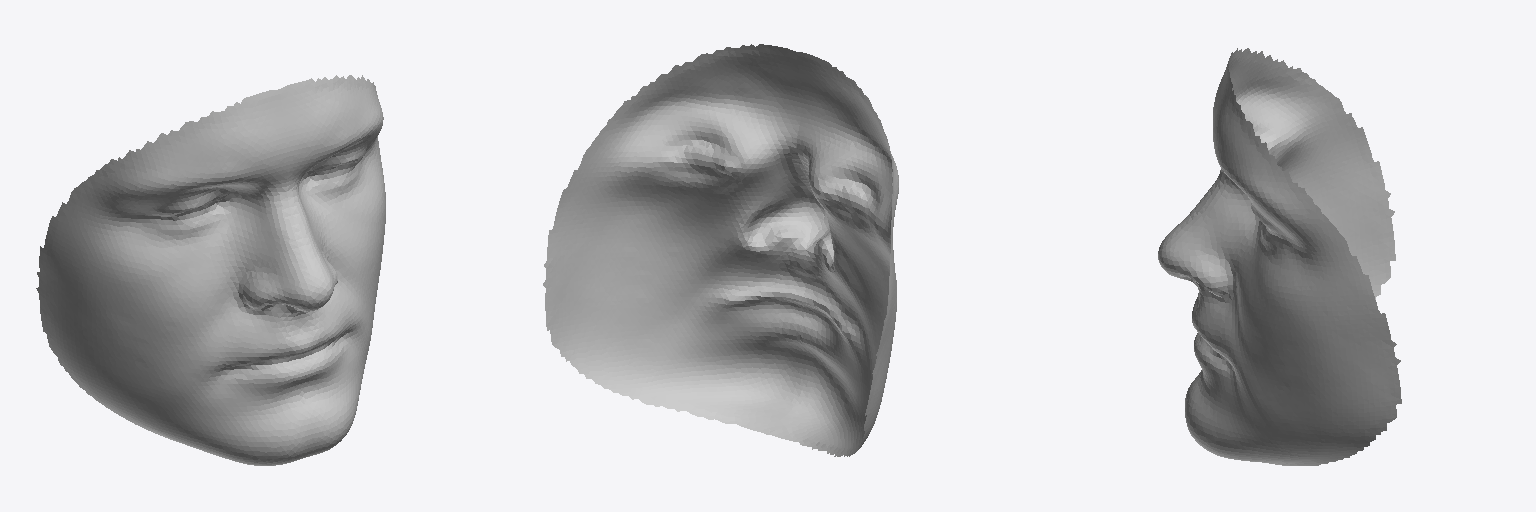
The model's file is SIMPOP_04.obj.
The picture shows the model from 3 angles: view 1: azimuth 30°, elevation 25°; view 2: azimuth 150°, elevation 25°; view 3: azimuth 270°, elevation 25°; orthographic projection.
Visible parts, largest first — view 1: SIMPOP_04; view 2: SIMPOP_04; view 3: SIMPOP_04.
Boxes of the visible parts, <box> form: SIMPOP_04: <box>36,75,385,465</box>; SIMPOP_04: <box>543,44,898,456</box>; SIMPOP_04: <box>1158,48,1401,465</box>.
Bounding box in the file's own units: 145 × 156 × 91.75.